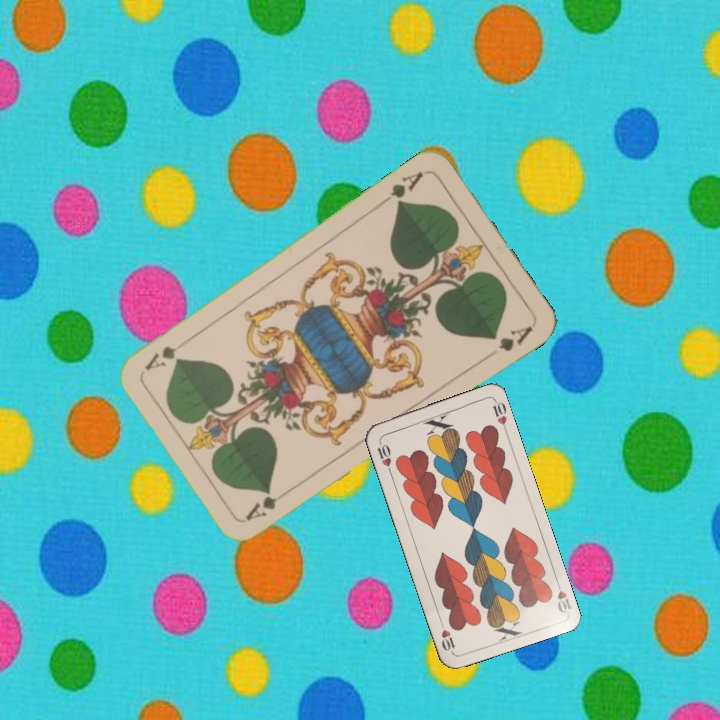GA: (241, 484, 294, 523), (376, 167, 426, 208)
H10: (552, 575, 574, 616), (373, 436, 394, 476)
